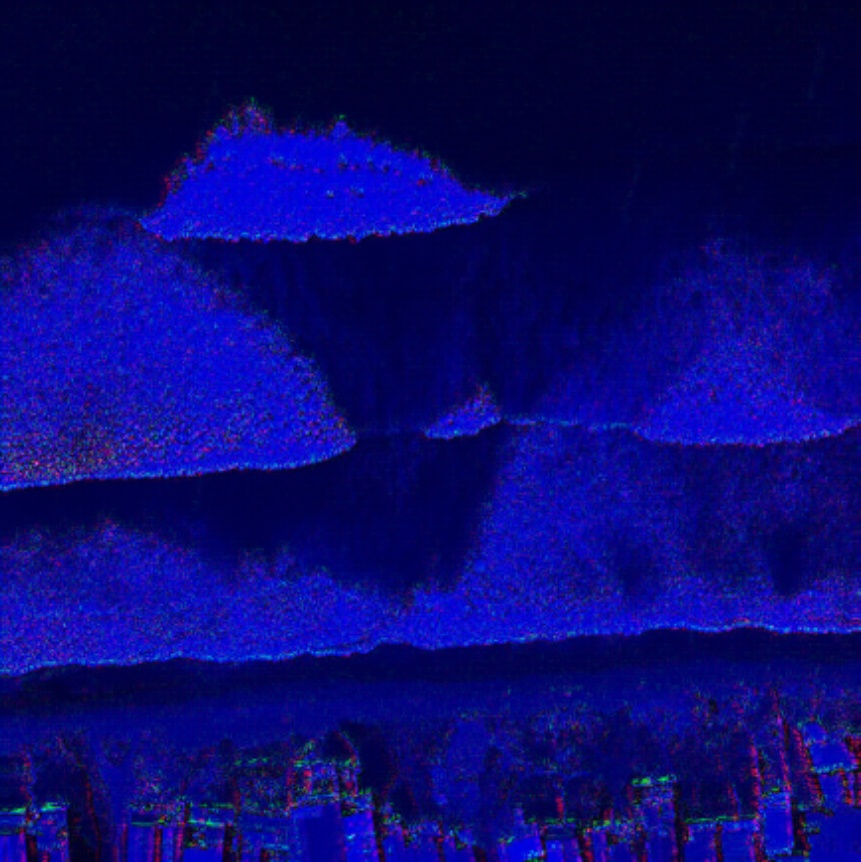rip_current: (195, 146, 567, 594)
